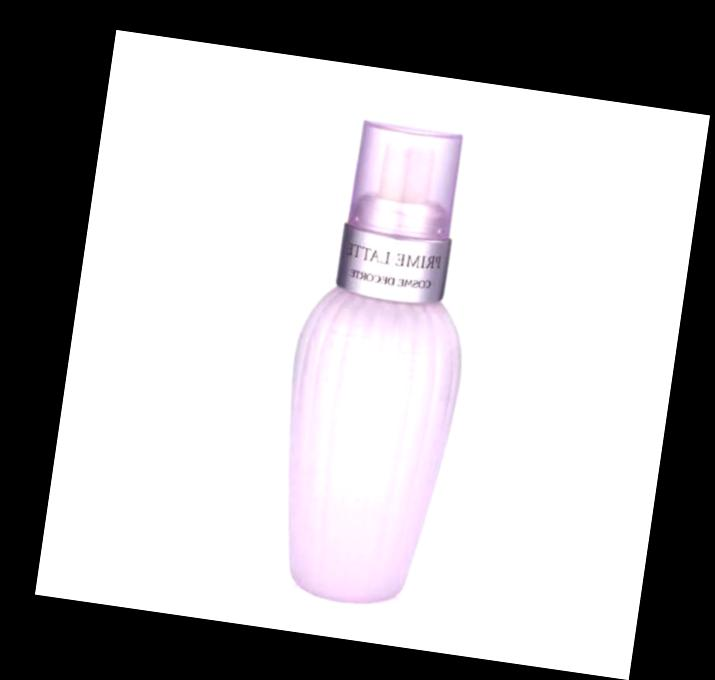cosmetic: (265, 109, 483, 616)
